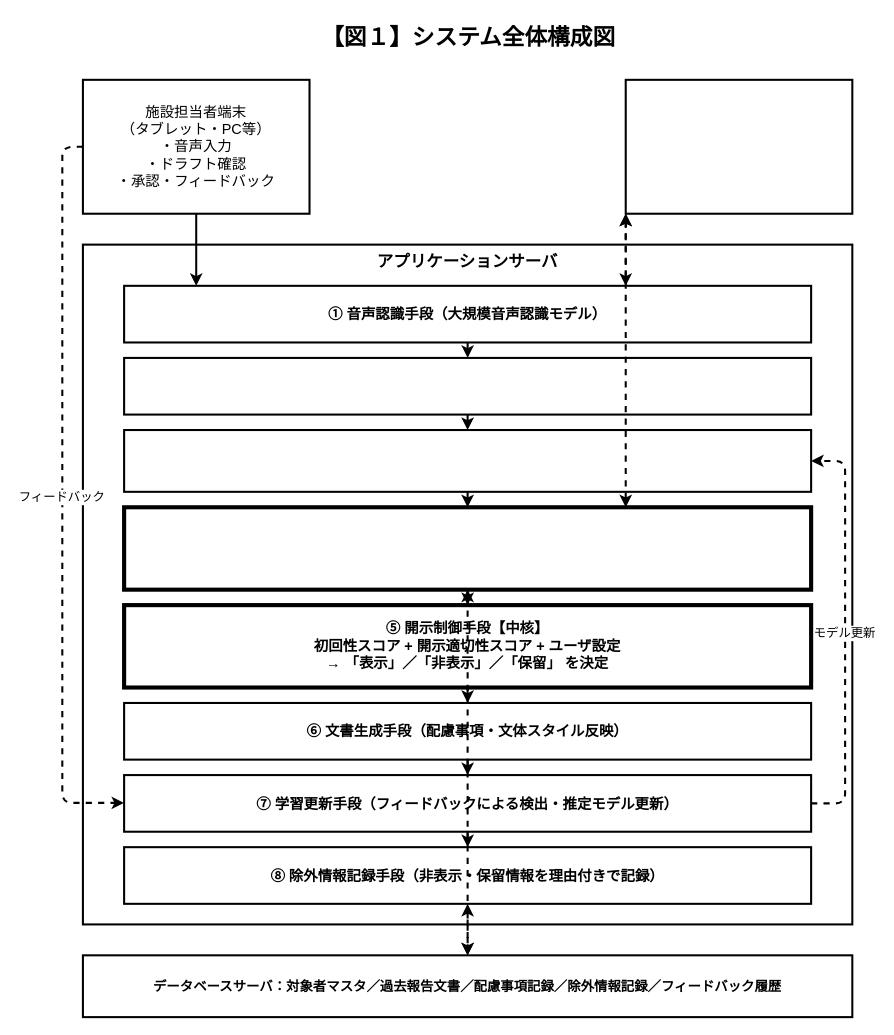
The diagram is 894 pixels wide and 1035 high, and some of its shapes have lost their labels. The shapes that lost their labels are listed below. From the top down, each one's centre as x and y in pixels, then its label:
the point at 738,146: AI処理サーバ ・音声認識エンジン ・文ベクトル化エンジン ・機械学習分類モデル
the point at 467,385: ② 対象者別抽出手段（対象者マスタ照合・話者識別）
the point at 467,460: ③ 発達イベント検出手段 キーワード照合 / 文脈解析 / 機械学習分類
the point at 467,548: ④ 初回性推定手段【中核】 過去履歴検索 / 類似文判定（ベクトル類似度） / 発生頻度分析 → 初回性スコア（0〜1）算出
